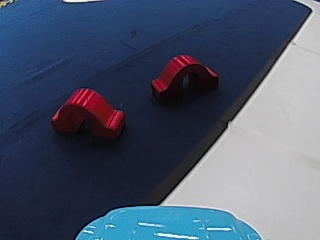bridge: (48, 84, 130, 140), (149, 50, 220, 103)
